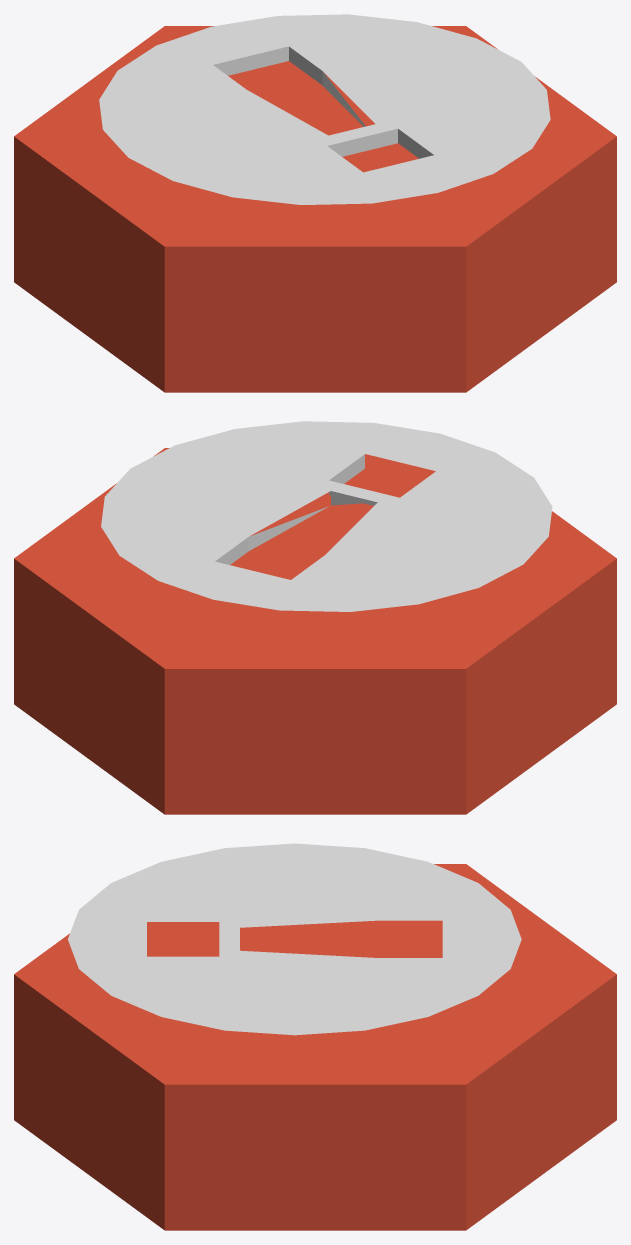
File: exlamacion.fbx
3 views of the same model, one above another, from view 1: azimuth 30°, elevation 25°; view 2: azimuth 150°, elevation 25°; view 3: azimuth 270°, elevation 25° (orthographic).
Parts seen in each view (by area): view 1: Circle.002, MP_Brick_Terrain.001; view 2: Circle.002, MP_Brick_Terrain.001; view 3: Circle.002, MP_Brick_Terrain.001.
Part boxes in pixels (bbox=[...]): Circle.002: bbox=[14, 26, 616, 392]; MP_Brick_Terrain.001: bbox=[99, 14, 550, 204]; Circle.002: bbox=[14, 448, 616, 814]; MP_Brick_Terrain.001: bbox=[101, 421, 552, 611]; Circle.002: bbox=[14, 864, 616, 1230]; MP_Brick_Terrain.001: bbox=[68, 843, 521, 1035].
Size of the model in its own units: 1956 by 745 by 2258.
